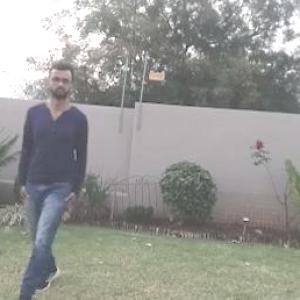follow: (26, 46, 122, 299)
